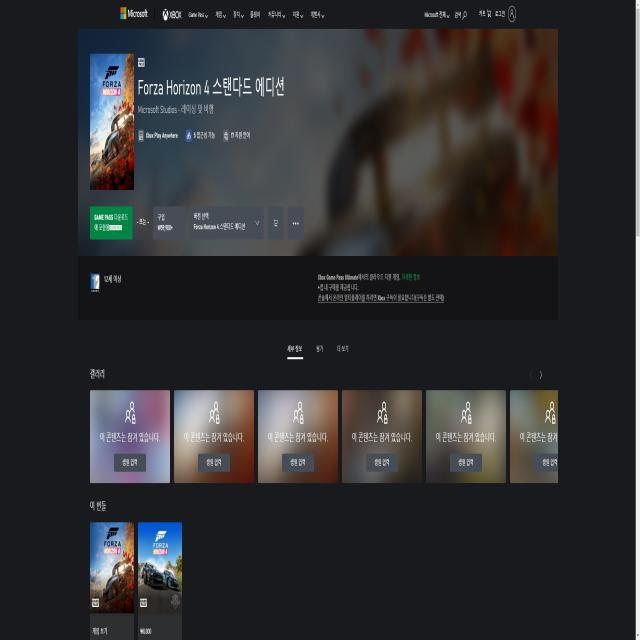menu-bar: (422, 2, 518, 24)
search: (451, 7, 470, 22)
tab-bar: (118, 4, 326, 23), (282, 336, 352, 365)
